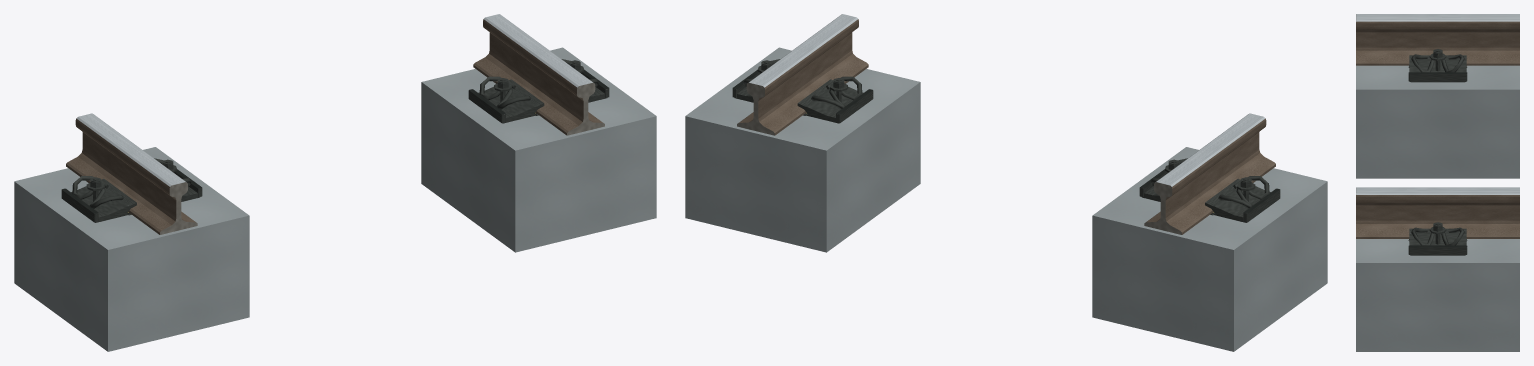
The model's file is direct_high.obj.
The picture shows the model from 3 angles, left to right: view 1: azimuth 30°, elevation 25°; view 2: azimuth 150°, elevation 25°; view 3: azimuth 270°, elevation 25°; orthographic projection. The views are drawn at different scales.
Parts seen in each view (by area): view 1: direct_bearer, rail_left, rail_right, fastener_right, fastener_left, rail_left_end, rail_right_end; view 2: direct_bearer, rail_left, rail_right, fastener_right, fastener_left, rail_left_end, rail_right_end; view 3: direct_bearer, rail_right, rail_left, fastener_left, fastener_right.
Part boxes in pixels (x1,y1,x2,y2): direct_bearer: [14, 47, 656, 351]; rail_left: [66, 113, 195, 234]; rail_right: [473, 14, 602, 135]; fastener_right: [468, 59, 609, 123]; fastener_left: [61, 158, 202, 222]; rail_left_end: [160, 182, 197, 234]; rail_right_end: [567, 83, 604, 135]; direct_bearer: [685, 47, 1327, 351]; rail_left: [1146, 113, 1275, 234]; rail_right: [739, 14, 868, 135]; fastener_right: [732, 59, 873, 123]; fastener_left: [1139, 158, 1280, 222]; rail_left_end: [1144, 182, 1181, 234]; rail_right_end: [737, 83, 774, 135]; direct_bearer: [1356, 65, 1519, 351]; rail_right: [1356, 187, 1519, 238]; rail_left: [1356, 14, 1519, 65]; fastener_left: [1408, 49, 1467, 82]; fastener_right: [1408, 222, 1467, 255].
Size of the model in its own units: 2.03 by 0.5324 by 0.6.
